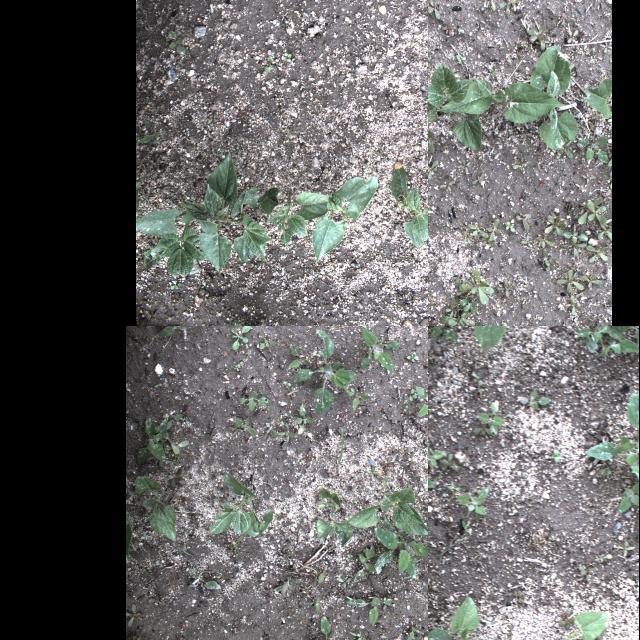crop: (138, 152, 270, 278), (256, 174, 376, 266), (434, 78, 564, 124), (206, 472, 274, 558), (339, 483, 428, 542), (428, 60, 482, 153), (530, 46, 578, 150), (384, 166, 428, 253), (132, 476, 180, 542), (373, 527, 428, 578), (315, 487, 353, 548), (540, 612, 611, 640), (474, 326, 530, 353), (450, 596, 479, 640), (584, 78, 612, 120), (125, 514, 136, 564), (601, 326, 638, 338), (136, 180, 140, 210), (222, 322, 245, 326), (250, 324, 266, 326)
weed: (294, 328, 358, 414), (586, 392, 638, 483), (134, 412, 188, 468), (359, 328, 401, 374), (456, 269, 494, 313), (344, 595, 394, 627), (575, 326, 622, 360), (458, 486, 490, 518), (262, 418, 298, 444), (480, 399, 504, 435), (303, 615, 337, 640), (599, 337, 639, 358), (354, 542, 376, 580), (577, 137, 609, 163), (187, 566, 221, 590), (516, 389, 552, 411), (440, 305, 475, 326), (138, 112, 160, 144), (238, 391, 270, 413), (617, 481, 639, 513), (578, 197, 602, 226), (294, 404, 316, 434), (556, 270, 584, 292), (230, 326, 252, 351), (155, 326, 200, 338), (544, 214, 568, 236), (288, 344, 310, 368), (234, 417, 258, 438), (528, 24, 546, 51), (587, 200, 607, 224), (126, 602, 144, 628), (415, 386, 428, 422), (167, 28, 186, 52), (558, 608, 576, 632), (351, 390, 372, 410), (428, 326, 457, 340), (403, 624, 428, 640), (586, 244, 608, 262), (274, 580, 302, 594), (428, 443, 445, 466), (336, 430, 344, 476), (512, 156, 532, 174), (467, 222, 489, 238), (165, 449, 182, 468), (440, 539, 460, 555), (616, 541, 636, 557), (440, 458, 460, 474), (560, 244, 586, 256), (486, 219, 500, 241), (499, 0, 518, 16), (262, 54, 278, 72), (564, 232, 588, 244), (166, 412, 184, 428), (598, 220, 612, 240), (582, 274, 602, 288), (496, 282, 516, 296), (564, 295, 578, 315), (474, 422, 494, 436), (516, 213, 532, 230), (536, 234, 554, 248), (166, 470, 184, 484), (176, 544, 194, 558), (440, 454, 454, 472), (428, 0, 440, 20), (306, 598, 320, 614), (438, 180, 456, 192), (347, 631, 370, 640), (258, 338, 278, 348), (598, 39, 612, 53), (447, 480, 461, 494), (336, 577, 352, 589), (381, 457, 393, 473), (578, 566, 590, 582), (428, 160, 438, 179), (148, 596, 166, 606), (443, 22, 455, 36), (444, 494, 456, 508), (471, 372, 483, 386), (428, 128, 434, 152), (543, 252, 551, 270), (366, 468, 382, 477), (406, 390, 418, 402), (125, 629, 138, 640), (568, 29, 578, 43), (445, 304, 455, 318), (472, 174, 486, 184), (460, 160, 470, 174), (419, 310, 428, 325), (483, 0, 495, 11), (580, 568, 596, 576), (318, 571, 327, 585), (170, 280, 182, 290), (521, 234, 531, 246), (406, 354, 418, 364), (552, 450, 562, 462), (158, 636, 187, 640), (506, 624, 514, 638), (555, 342, 565, 353), (462, 520, 471, 532), (227, 426, 240, 434), (505, 222, 515, 232), (232, 362, 242, 372), (284, 552, 294, 562), (382, 475, 390, 487), (518, 592, 526, 604), (596, 554, 608, 562), (600, 468, 612, 476), (282, 51, 292, 60), (599, 627, 607, 637), (591, 635, 606, 640), (206, 120, 214, 128), (504, 490, 520, 494), (286, 128, 292, 138), (466, 446, 472, 456), (552, 374, 558, 384), (283, 379, 291, 386), (126, 494, 132, 502), (154, 382, 162, 388), (346, 554, 354, 560), (404, 405, 408, 413), (437, 475, 443, 479), (564, 497, 568, 501), (480, 388, 482, 396), (636, 507, 638, 513)
